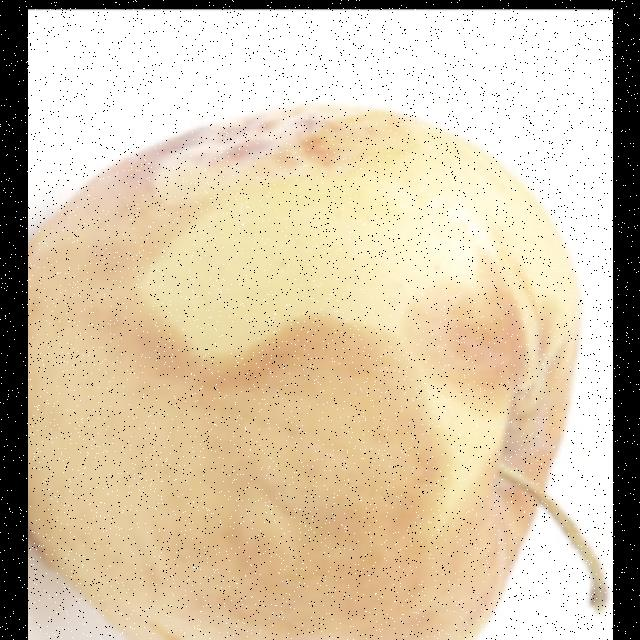Apel Tidak Segar: (28, 91, 574, 640)
